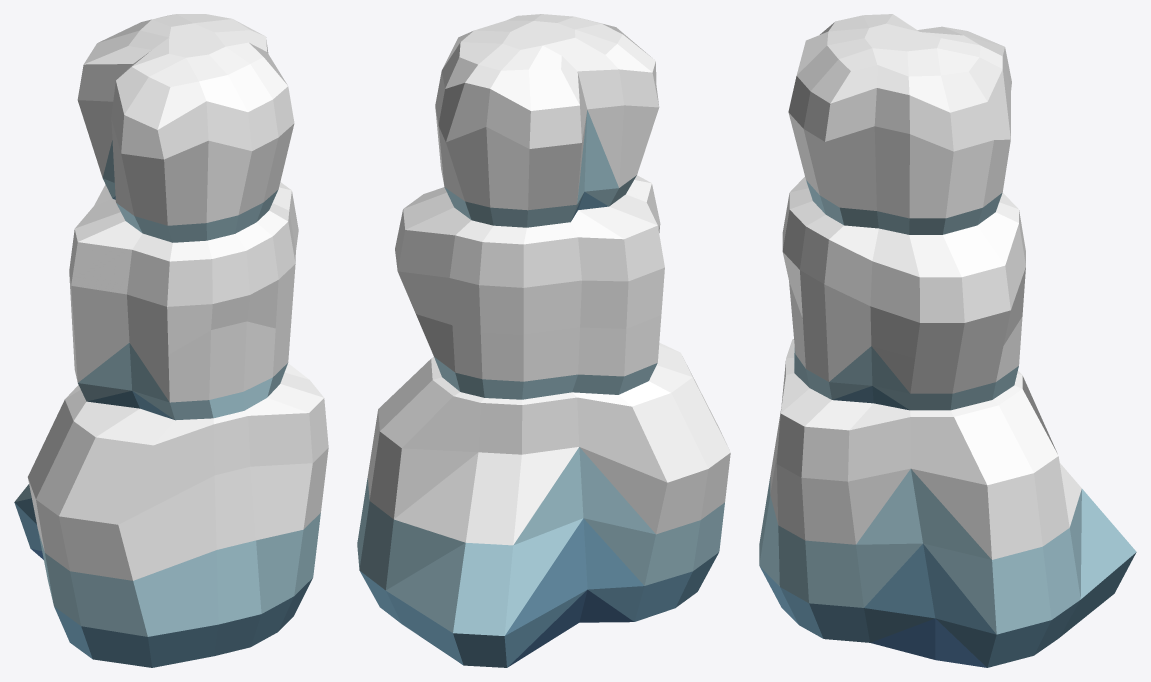
The model's file is terrainStonePillarLarge1.fbx.
The picture shows the model from 3 angles, left to right: view 1: azimuth 30°, elevation 25°; view 2: azimuth 150°, elevation 25°; view 3: azimuth 270°, elevation 25°; orthographic projection. The views are drawn at different scales.
Visible parts, largest first — view 1: plane; view 2: plane; view 3: plane.
Part boxes in pixels (<box>): plane: <box>14,14,328,667</box>; plane: <box>357,14,730,667</box>; plane: <box>759,14,1136,667</box>.
Size of the model in its own units: 1906 by 3369 by 2025.
Materials: 1 (1 with a texture image).
